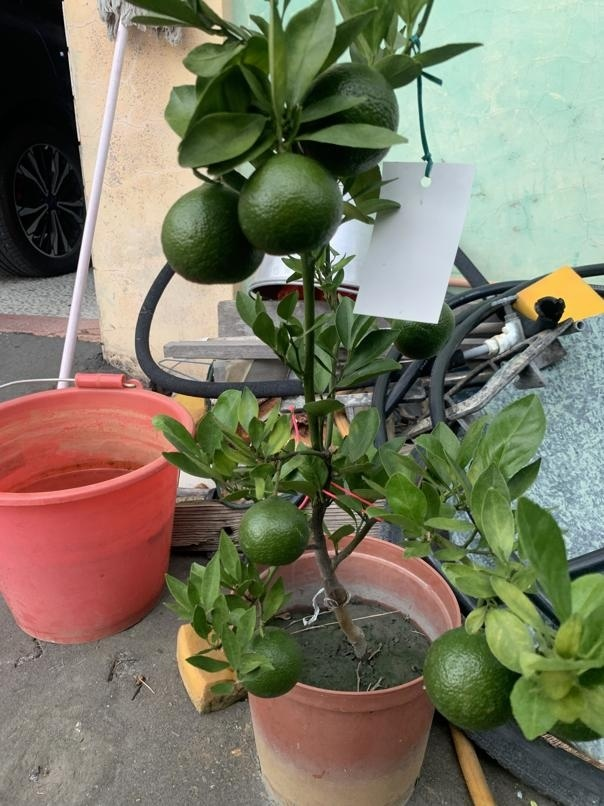Tangerine: (232, 145, 342, 254), (420, 618, 519, 731), (306, 60, 403, 174), (160, 176, 258, 285), (239, 492, 310, 569)
